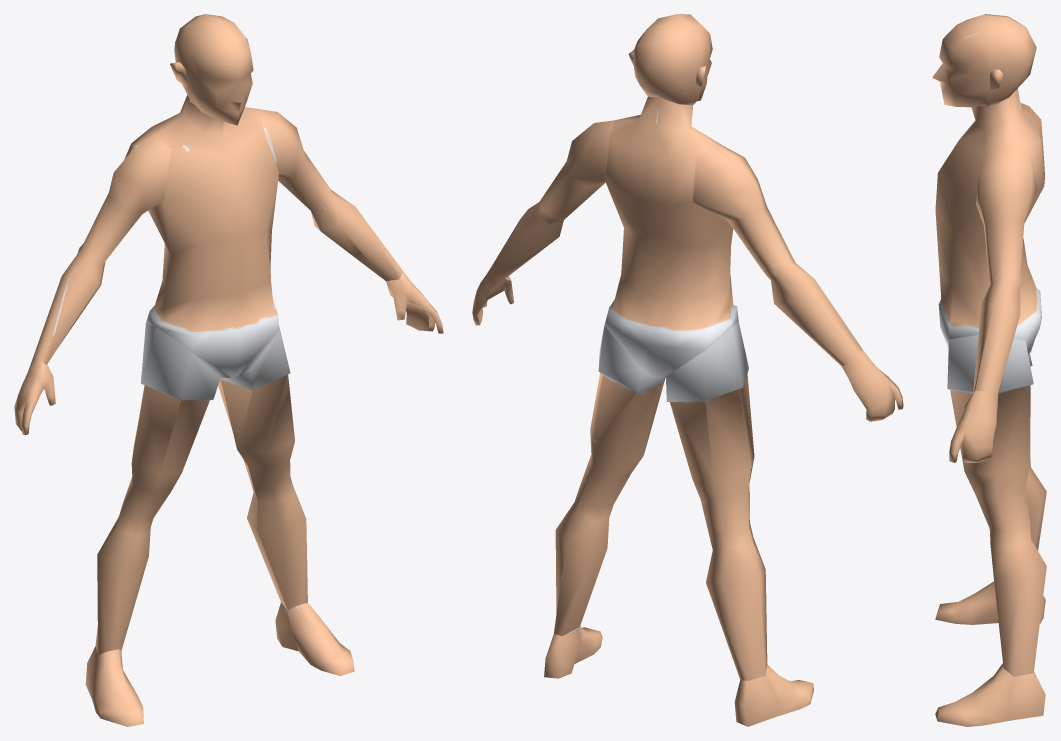
Rendered from olonako.obj.
3 renders of one model, left to right at view 1: azimuth 30°, elevation 25°; view 2: azimuth 150°, elevation 25°; view 3: azimuth 270°, elevation 25°, orthographic. The views are drawn at different scales.
Parts seen in each view (by area): view 1: Cube_Material.001_0; view 2: Cube_Material.001_0; view 3: Cube_Material.001_0.
Part boxes in pixels (x1,y1,x2,y2): Cube_Material.001_0: (14,14,443,726); Cube_Material.001_0: (472,14,903,726); Cube_Material.001_0: (932,14,1046,726).
Size of the model in its own units: 2.64 by 3.98 by 0.635.
Materials: 1 (1 with a texture image).
